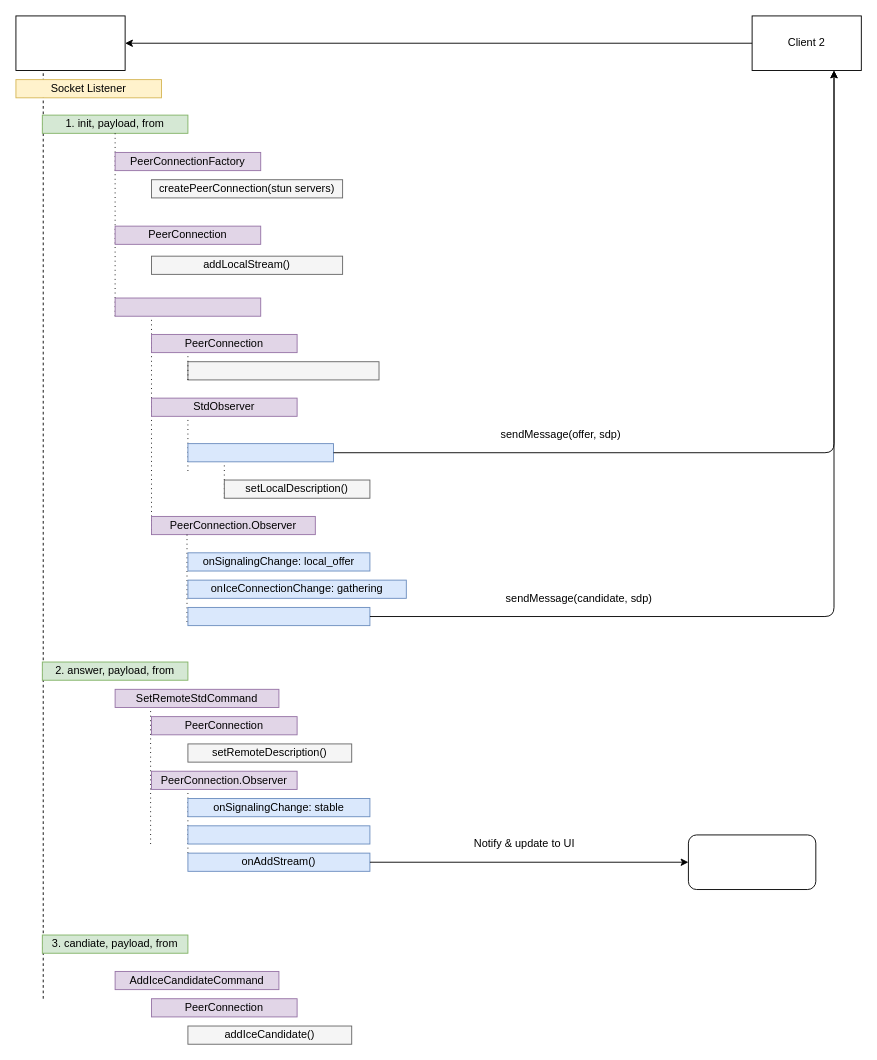
The diagram is 877 pixels wide and 1060 high, and some of its shapes have lost their labels. Each missing label, with the box of its shape:
Client 1: (15, 15, 125, 71)
createOffer(peer,constrainst): (187, 361, 379, 380)
CreateOfferCommand: (114, 297, 261, 316)
onCreateSuccess(sdp): (187, 443, 334, 462)
onIceCandiate: (187, 607, 370, 626)
onIceConnectionChange: (187, 825, 370, 844)
SurfaceRenderer: (688, 834, 816, 890)
